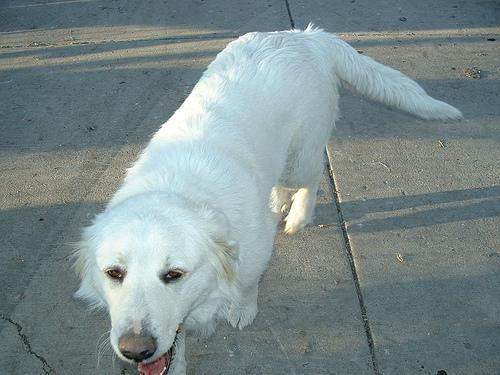Great_Pyrenees: (65, 22, 463, 374)
